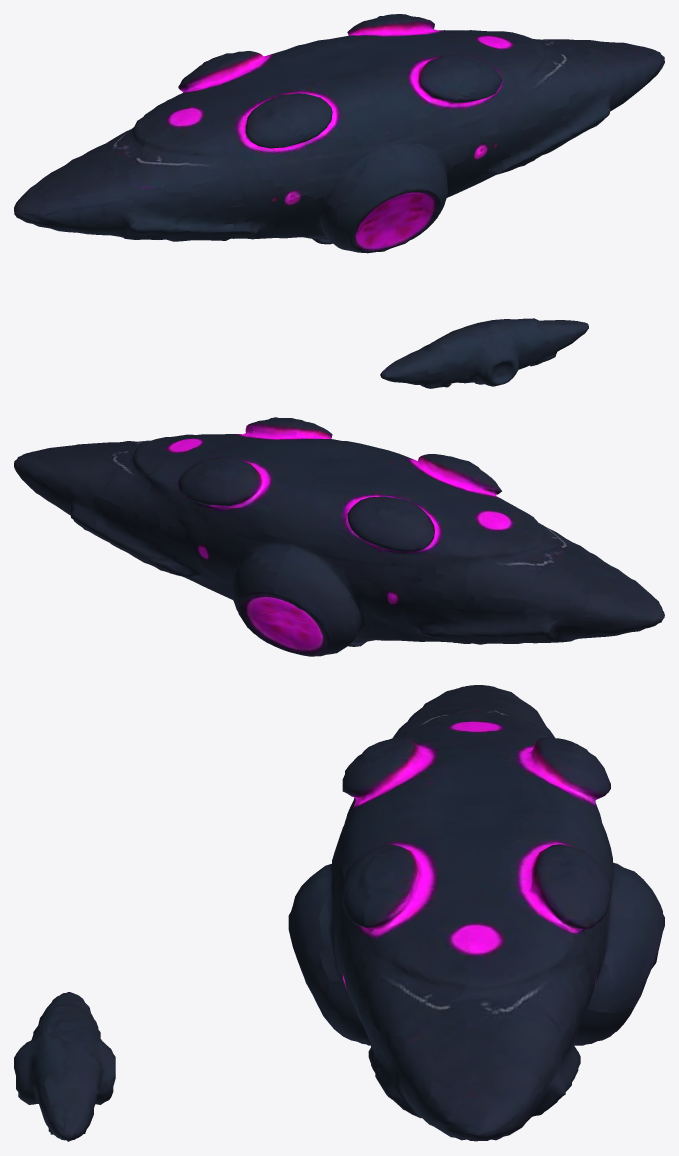
Rendered from nave-lobulos.glb.
The picture shows the model from 3 angles, top to bottom: view 1: azimuth 30°, elevation 25°; view 2: azimuth 150°, elevation 25°; view 3: azimuth 270°, elevation 25°; orthographic projection. The views are drawn at different scales.
Size of the model in its own units: 1.91 by 0.6145 by 1.18.
1 material, 1 textured.
